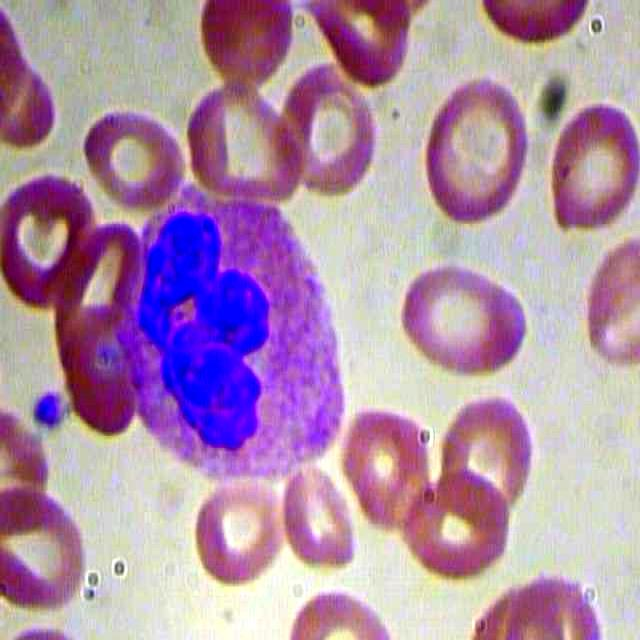Platelets: (24, 388, 71, 436)
RBC: (416, 71, 537, 224), (398, 261, 529, 376), (543, 83, 640, 236), (397, 459, 522, 577), (434, 395, 559, 513), (279, 57, 383, 196), (70, 95, 190, 209), (339, 408, 440, 543), (188, 473, 292, 596), (1, 485, 93, 624), (185, 2, 306, 94), (574, 239, 640, 384), (284, 464, 360, 579)
WBC: (115, 179, 363, 492)
